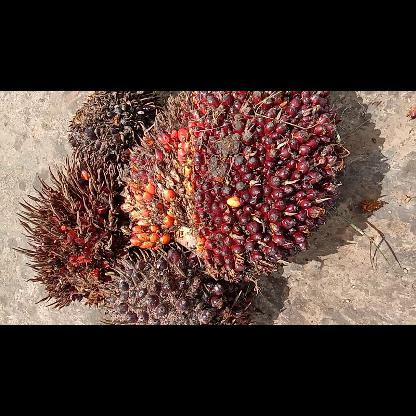Kurang masak: (100, 246, 252, 324)
TBS abnormal: (69, 91, 162, 169)
TBS masak: (119, 90, 349, 280)
Terlalu masak: (14, 152, 121, 310)
